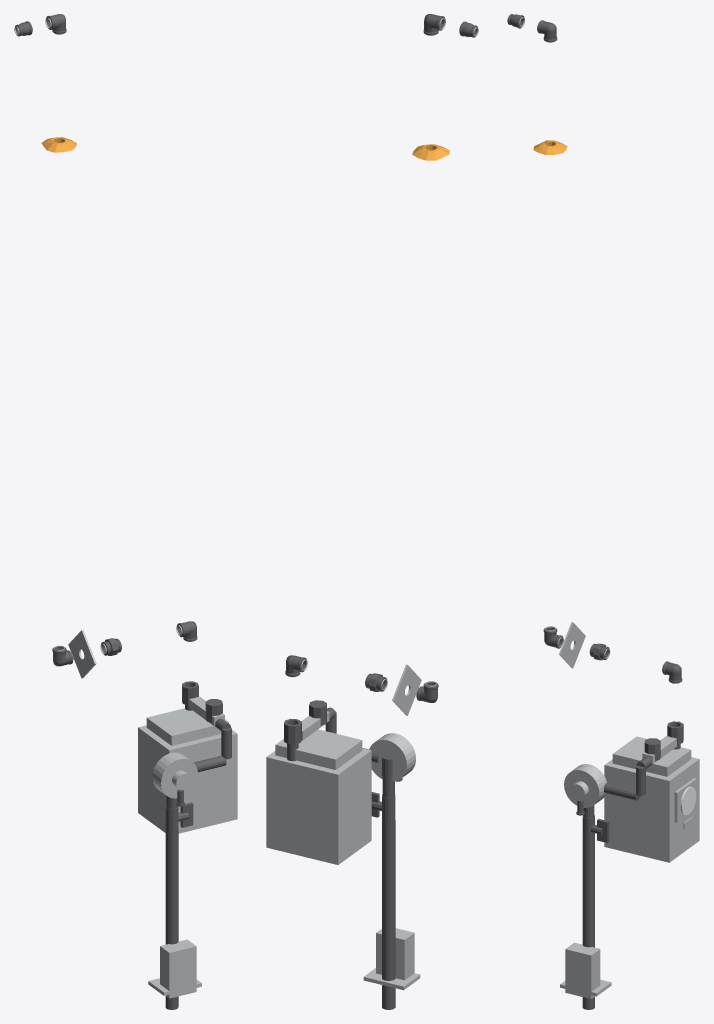
Rendered from slab_pipes_gas__gas-natural.glb.
3 views of the same model, side by side, from view 1: azimuth 30°, elevation 25°; view 2: azimuth 150°, elevation 25°; view 3: azimuth 330°, elevation 25° (orthographic). The views are drawn at different scales.
Parts seen in each view (by area): view 1: fix_gas_meter, fix_gas_meter_union; view 2: fix_gas_meter, fix_gas_meter_union; view 3: fix_gas_meter, fix_gas_meter_union.
Boxes of the visible parts, x1=… form: fix_gas_meter: x1=138, y1=681, x2=237, y2=1009; fix_gas_meter_union: x1=68, y1=630, x2=121, y2=678; fix_gas_meter: x1=266, y1=700, x2=420, y2=1009; fix_gas_meter_union: x1=365, y1=664, x2=421, y2=715; fix_gas_meter: x1=560, y1=721, x2=699, y2=1009; fix_gas_meter_union: x1=559, y1=622, x2=610, y2=668.
Bounding box in the file's own units: 0.7304 × 3.45 × 0.3898.
